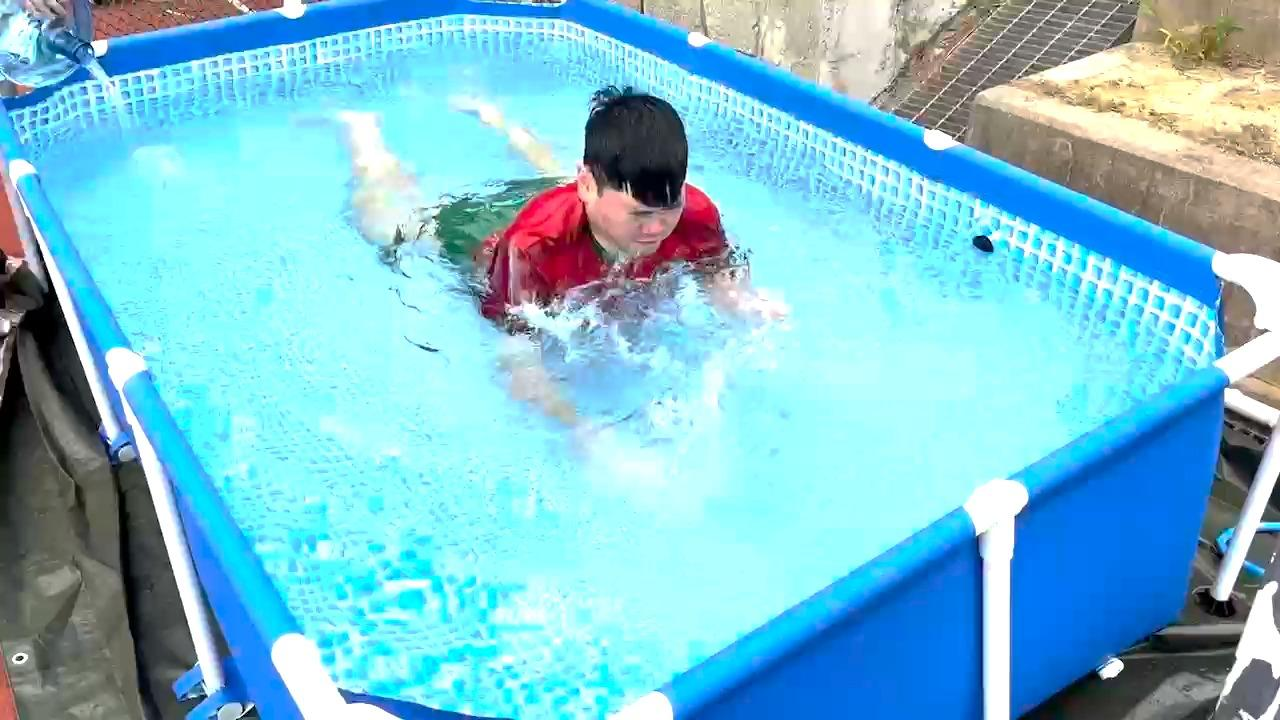Drowning: (276, 55, 801, 466)
